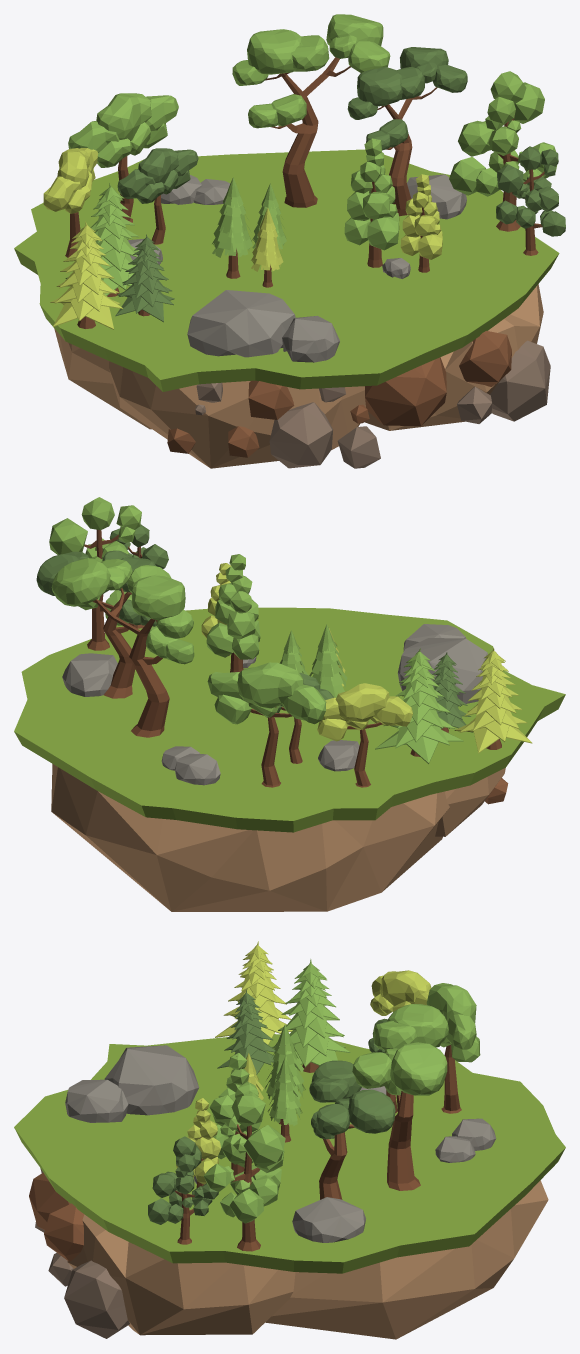
Rendered from lowpoly_trees.glb.
3 views of the same model, one above another, from view 1: azimuth 30°, elevation 25°; view 2: azimuth 150°, elevation 25°; view 3: azimuth 270°, elevation 25° (orthographic). The views are drawn at different scales.
Parts seen in each view (by area): view 1: Icosphere.008, Circle.005; view 2: Icosphere.008, Circle.005; view 3: Icosphere.008, Circle.005.
Part boxes in pixels (x1,y1,x2,y2): Icosphere.008: (14, 149, 559, 468); Circle.005: (43, 14, 565, 329); Icosphere.008: (14, 607, 565, 911); Circle.005: (36, 497, 532, 787); Icosphere.008: (14, 1034, 565, 1339); Circle.005: (148, 941, 480, 1251).
Size of the model in its own units: 3751 by 2285 by 3613.
